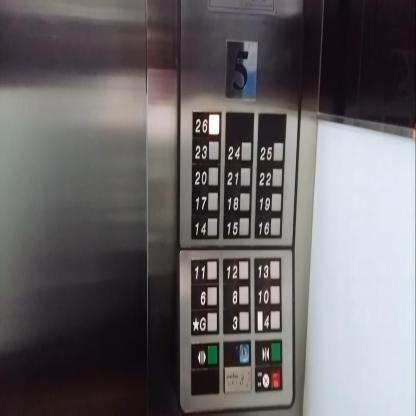10: (252, 280, 282, 307)
11: (189, 256, 220, 283)
12: (222, 254, 251, 284)
13: (252, 255, 282, 282)
14: (190, 213, 220, 240)
15: (221, 212, 252, 239)
16: (253, 211, 284, 239)
17: (190, 190, 221, 216)
18: (223, 188, 252, 214)
19: (254, 188, 284, 213)
20: (190, 164, 221, 190)
21: (223, 162, 253, 190)
22: (254, 163, 285, 189)
23: (191, 137, 222, 165)
24: (223, 138, 254, 164)
25: (255, 137, 286, 164)
26: (191, 110, 222, 138)
3: (222, 308, 251, 335)
4: (253, 305, 283, 334)
6: (189, 282, 220, 312)
8: (221, 280, 251, 309)
bt_keyhole: (222, 338, 252, 366)
close: (253, 338, 283, 365)
open: (190, 340, 220, 370)
sG: (190, 308, 221, 336)
stop: (254, 364, 284, 393)
